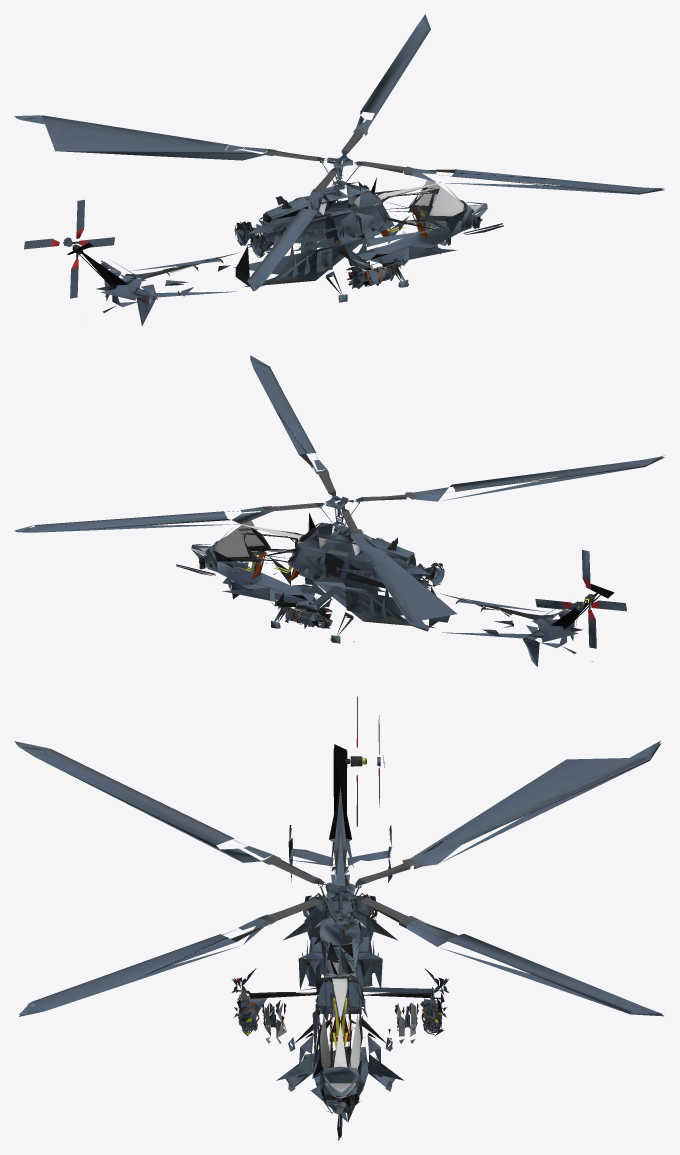
3 renders of one model, top to bottom at view 1: azimuth 30°, elevation 25°; view 2: azimuth 150°, elevation 25°; view 3: azimuth 270°, elevation 25°, orthographic. The views are drawn at different scales.
Visible parts, largest first — view 1: g_ah1z_hull, g_ah1z_rotor, g_ah1z_rotor2; view 2: g_ah1z_hull, g_ah1z_rotor, g_ah1z_rotor2; view 3: g_ah1z_hull, g_ah1z_rotor.
Boxes of the visible parts, x1,y1,x2,y2 form: g_ah1z_hull: [67, 160, 503, 326]; g_ah1z_rotor: [14, 14, 664, 291]; g_ah1z_rotor2: [24, 199, 114, 298]; g_ah1z_hull: [176, 501, 614, 667]; g_ah1z_rotor: [14, 355, 664, 631]; g_ah1z_rotor2: [535, 549, 626, 648]; g_ah1z_hull: [231, 744, 449, 1140]; g_ah1z_rotor: [14, 741, 664, 1016].
Bounding box in the file's own units: 17.63 × 4.7 × 14.4.
Materials: 3 (3 with a texture image).
